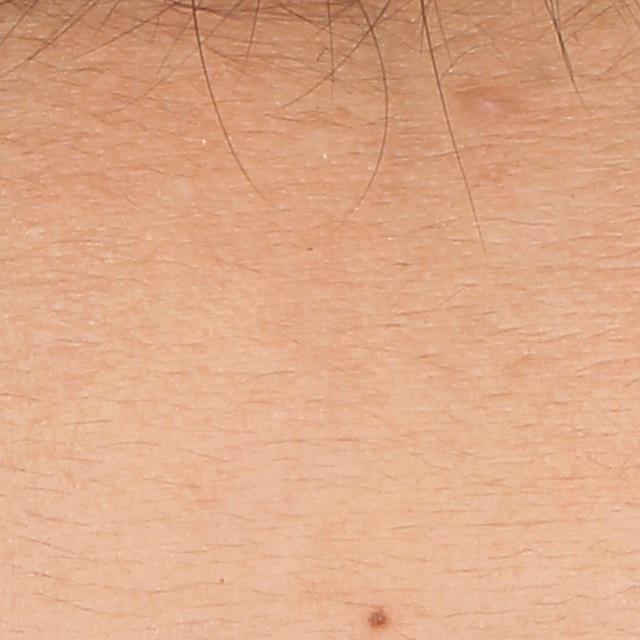nevus: (364, 602, 393, 631)
